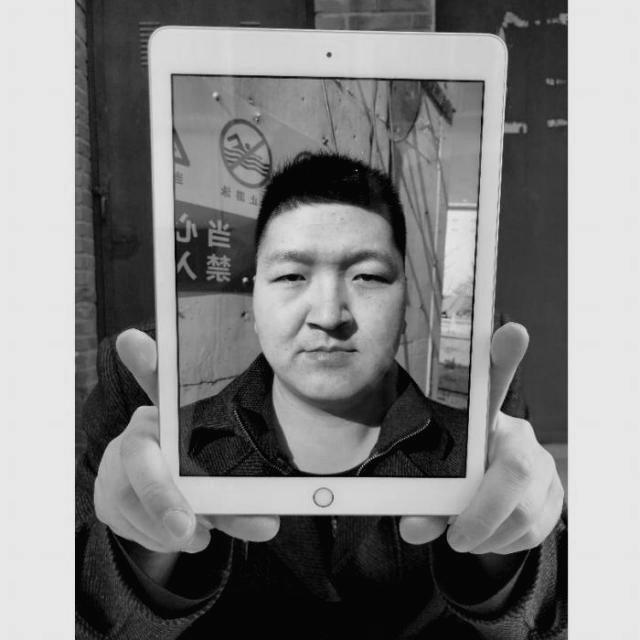fake: (149, 23, 509, 532)
